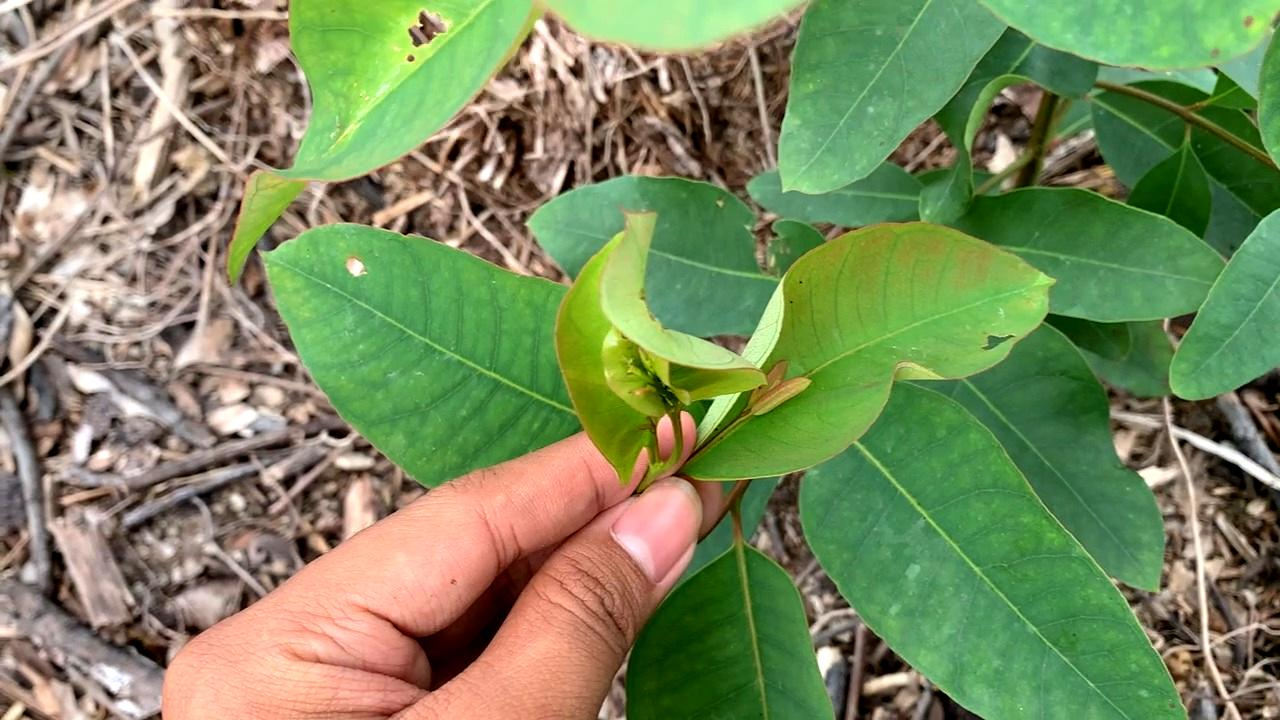Leaf Roller - Leaf: (556, 213, 772, 481)
